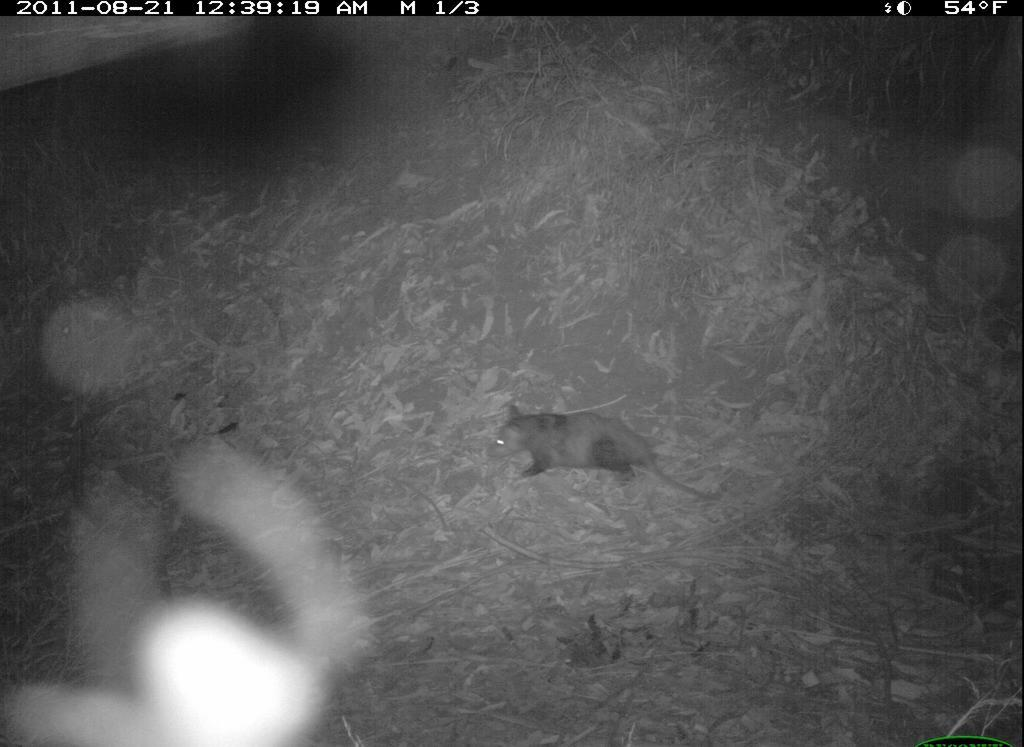opossum: (469, 381, 742, 504)
